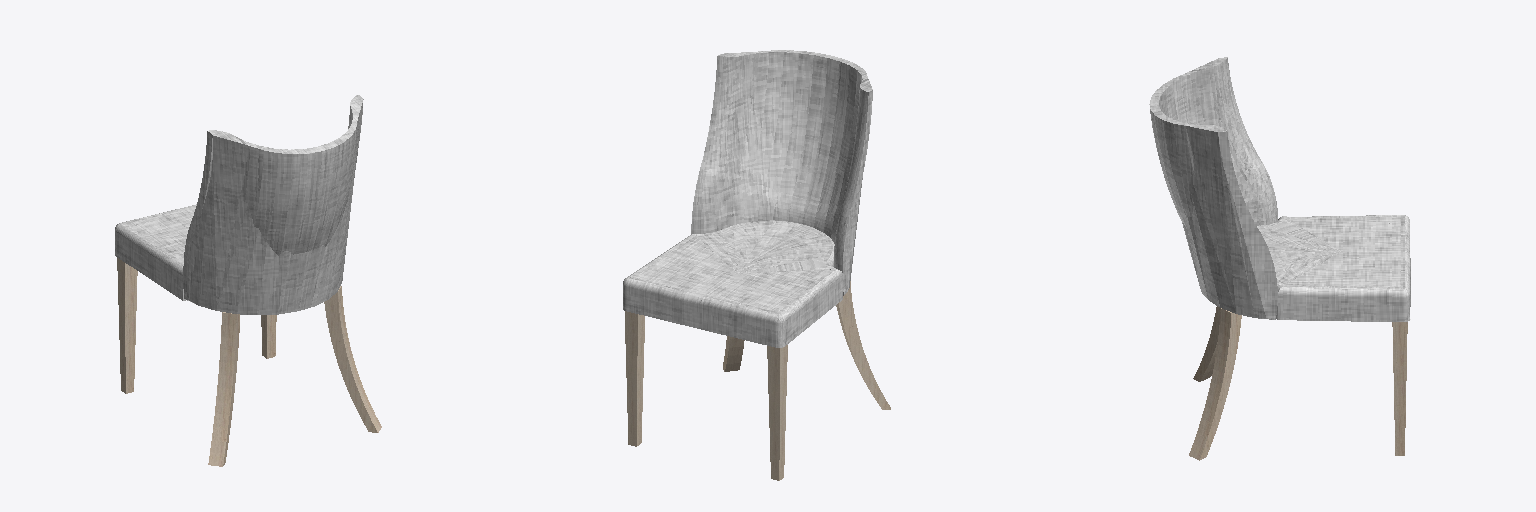
The picture shows the model from 3 angles: view 1: azimuth 30°, elevation 25°; view 2: azimuth 150°, elevation 25°; view 3: azimuth 270°, elevation 25°; orthographic projection.
Parts seen in each view (by area): view 1: mesh11_mesh11-geometry, mesh1_mesh1-geometry, mesh17_mesh17-geometry, mesh13_mesh13-geometry, mesh15_mesh15-geometry, mesh9_mesh9-geometry; view 2: mesh11_mesh11-geometry, mesh1_mesh1-geometry, mesh15_mesh15-geometry, mesh9_mesh9-geometry, mesh17_mesh17-geometry, mesh13_mesh13-geometry; view 3: mesh11_mesh11-geometry, mesh1_mesh1-geometry, mesh13_mesh13-geometry, mesh9_mesh9-geometry, mesh17_mesh17-geometry.
Boxes of the visible parts, box(x1,y1,x2,y2) form: mesh11_mesh11-geometry: box(183, 95, 363, 314); mesh1_mesh1-geometry: box(115, 204, 196, 300); mesh17_mesh17-geometry: box(208, 312, 239, 466); mesh13_mesh13-geometry: box(324, 286, 381, 432); mesh15_mesh15-geometry: box(117, 258, 137, 393); mesh9_mesh9-geometry: box(261, 315, 276, 358); mesh11_mesh11-geometry: box(691, 50, 872, 295); mesh1_mesh1-geometry: box(623, 220, 842, 347); mesh15_mesh15-geometry: box(767, 345, 787, 480); mesh9_mesh9-geometry: box(625, 311, 644, 446); mesh17_mesh17-geometry: box(836, 281, 890, 409); mesh13_mesh13-geometry: box(723, 336, 744, 371); mesh11_mesh11-geometry: box(1149, 57, 1277, 319); mesh1_mesh1-geometry: box(1257, 215, 1410, 321); mesh13_mesh13-geometry: box(1189, 308, 1241, 460); mesh9_mesh9-geometry: box(1392, 322, 1407, 455); mesh17_mesh17-geometry: box(1193, 306, 1220, 381).
Size of the model in its own units: 0.4078 by 0.7383 by 0.5372.
Materials: 4 (2 with a texture image).